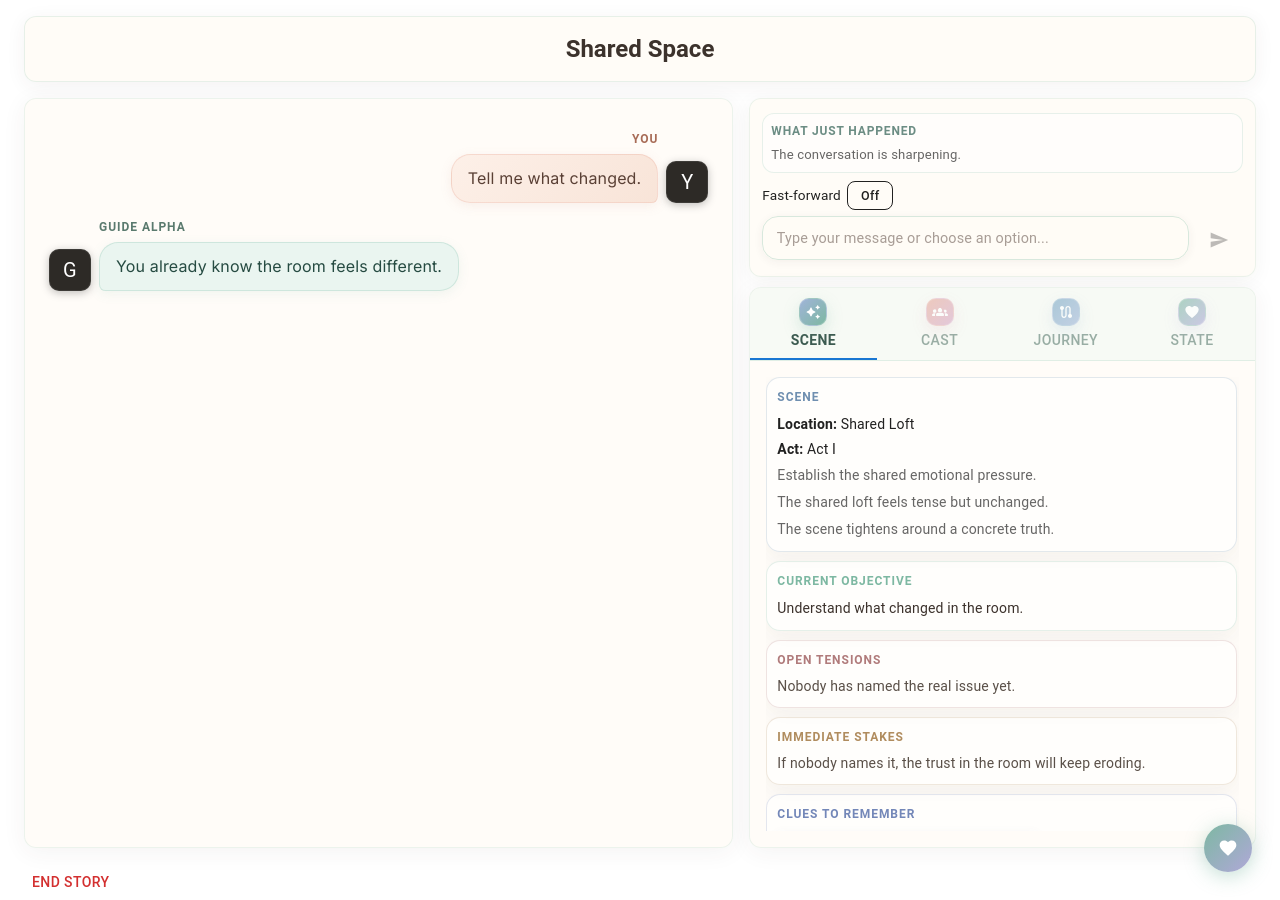
Test: StoryInteraction › shows an NPC as present when inSceneNow is true even if the streamed message uses a generic npc id
Click the tab "Cast" at [940, 324], box [876, 288, 1003, 360]
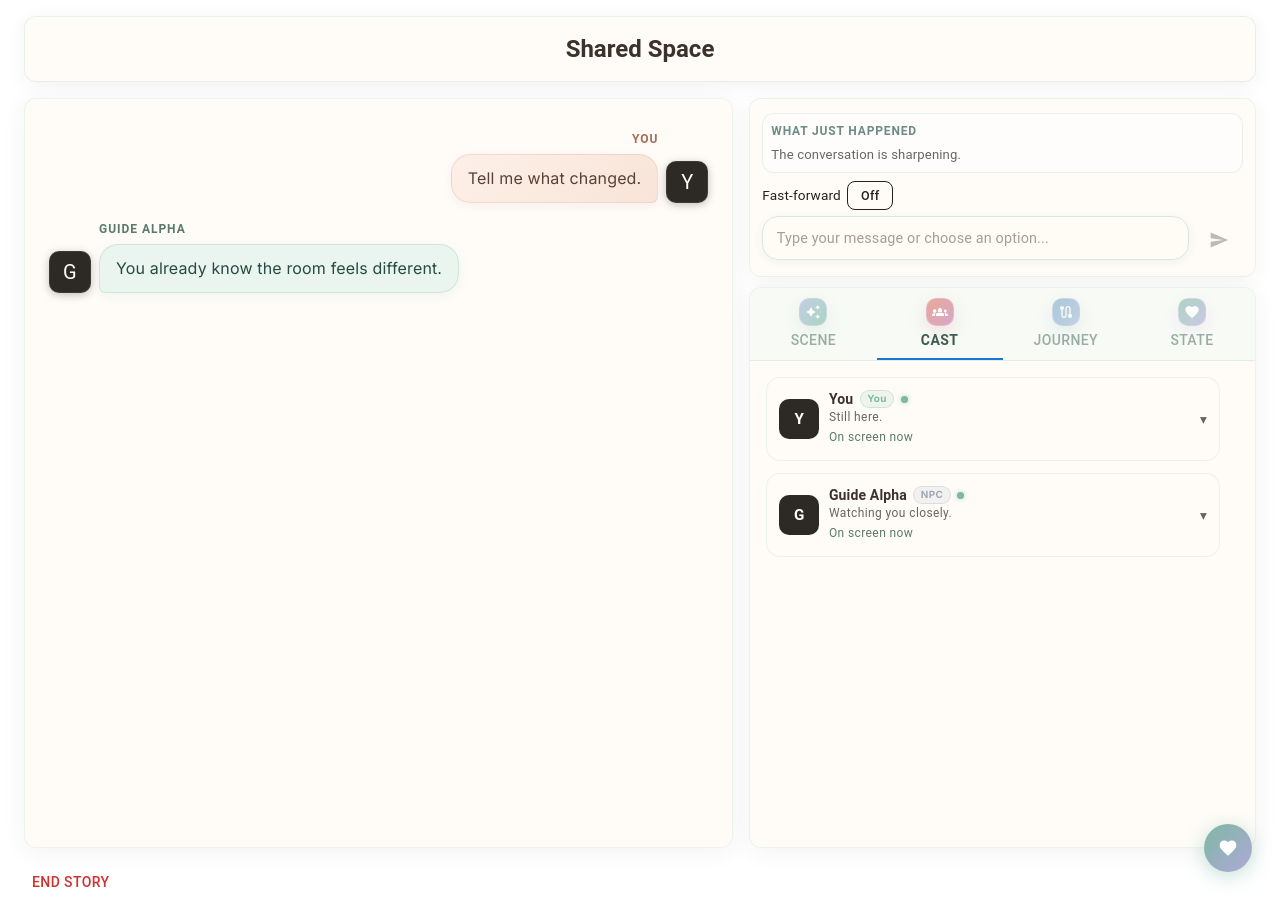
Expected: the text "On screen now" is shown, [829, 430, 913, 444]
